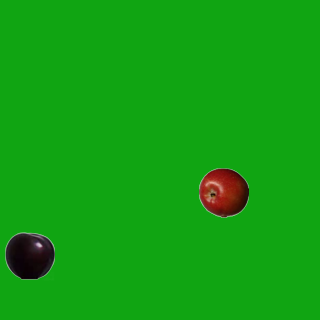Apple Braeburn: (198, 167, 248, 217)
Cherry Wax Black: (4, 230, 54, 280)
